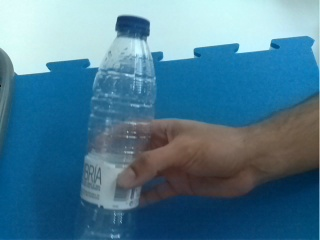botella plastico: (81, 13, 158, 240)
